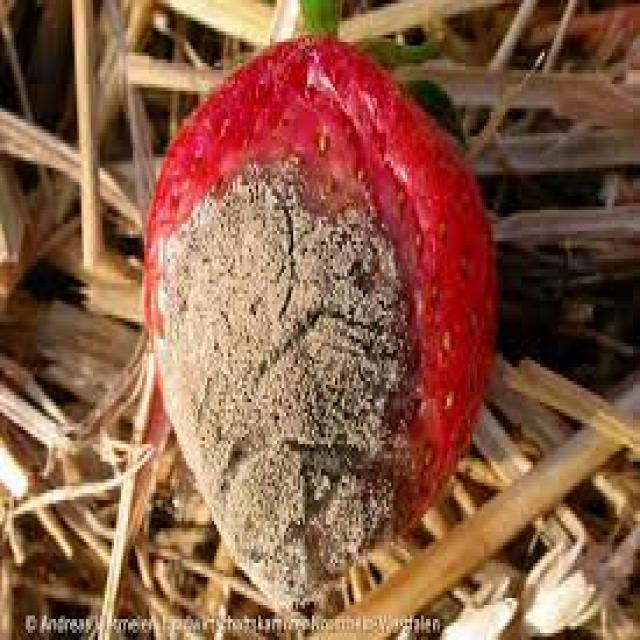Moho gris: (129, 43, 476, 590)
